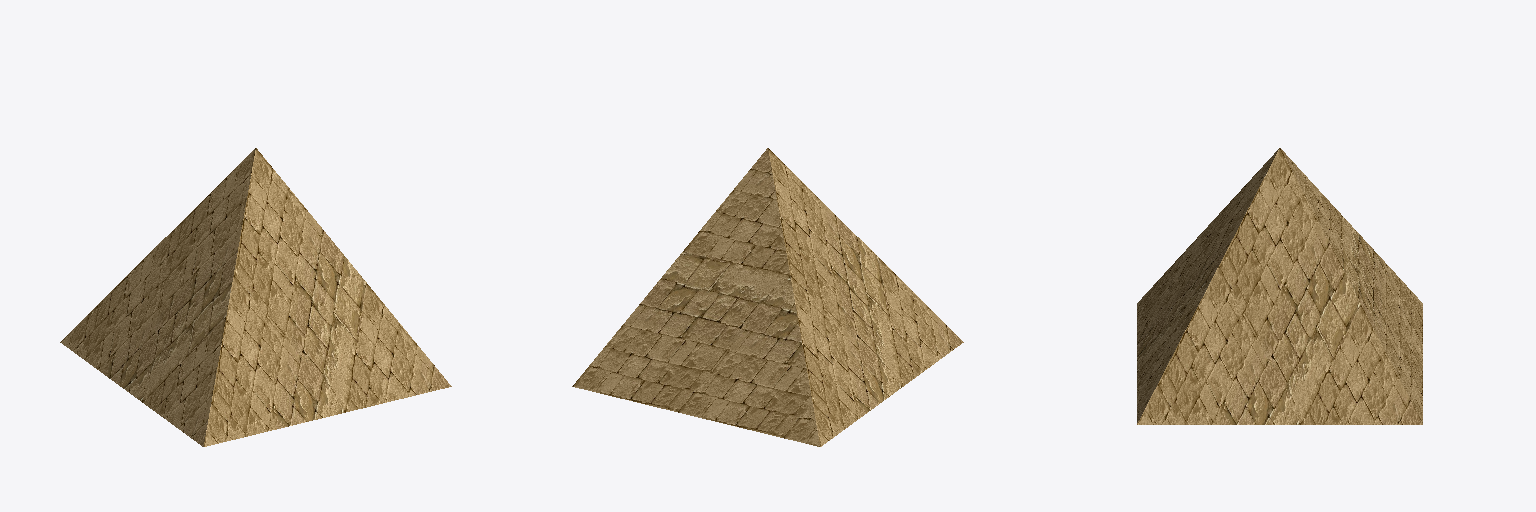
3 renders of one model, left to right at view 1: azimuth 30°, elevation 25°; view 2: azimuth 150°, elevation 25°; view 3: azimuth 270°, elevation 25°, orthographic.
Parts seen in each view (by area): view 1: Cube; view 2: Cube; view 3: Cube.
Boxes of the visible parts, <box> form: Cube: <box>60,148,451,446</box>; Cube: <box>572,148,963,446</box>; Cube: <box>1137,148,1422,424</box>.
Bounding box in the file's own units: 9.82 × 8.2 × 9.82.
1 materials, 1 textured.